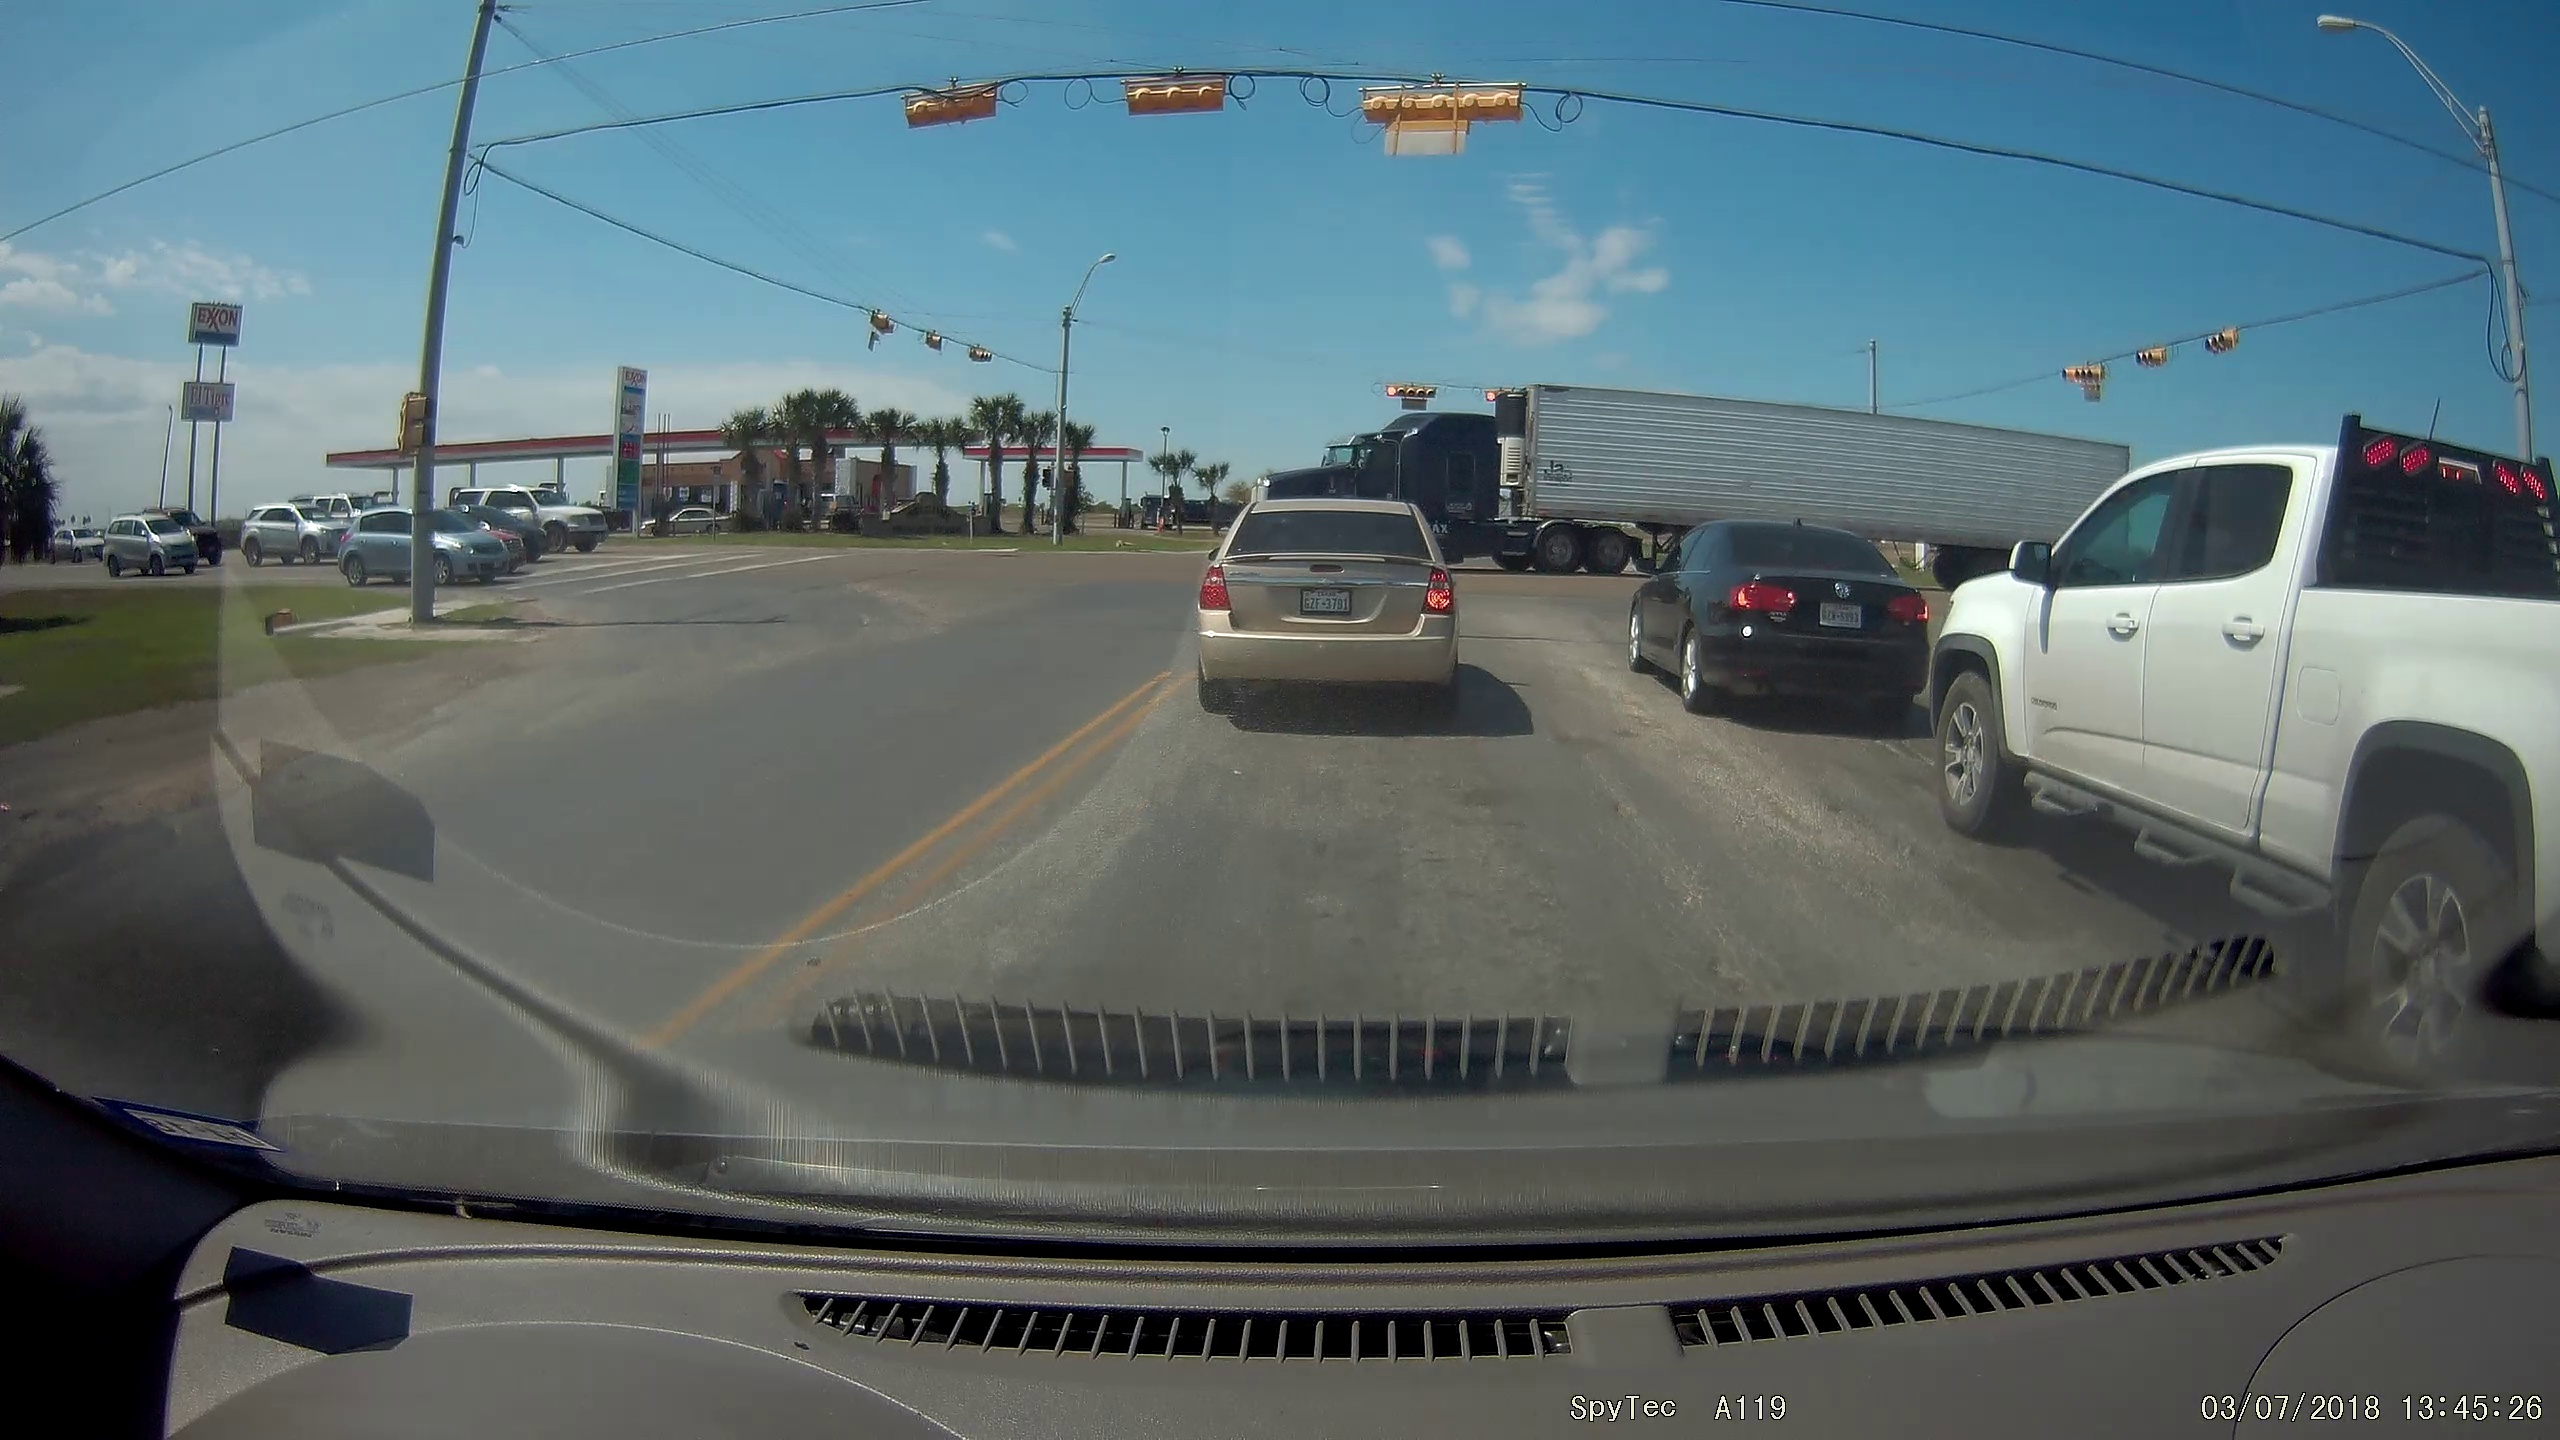alligatorCrack: (1647, 731, 1885, 874)
